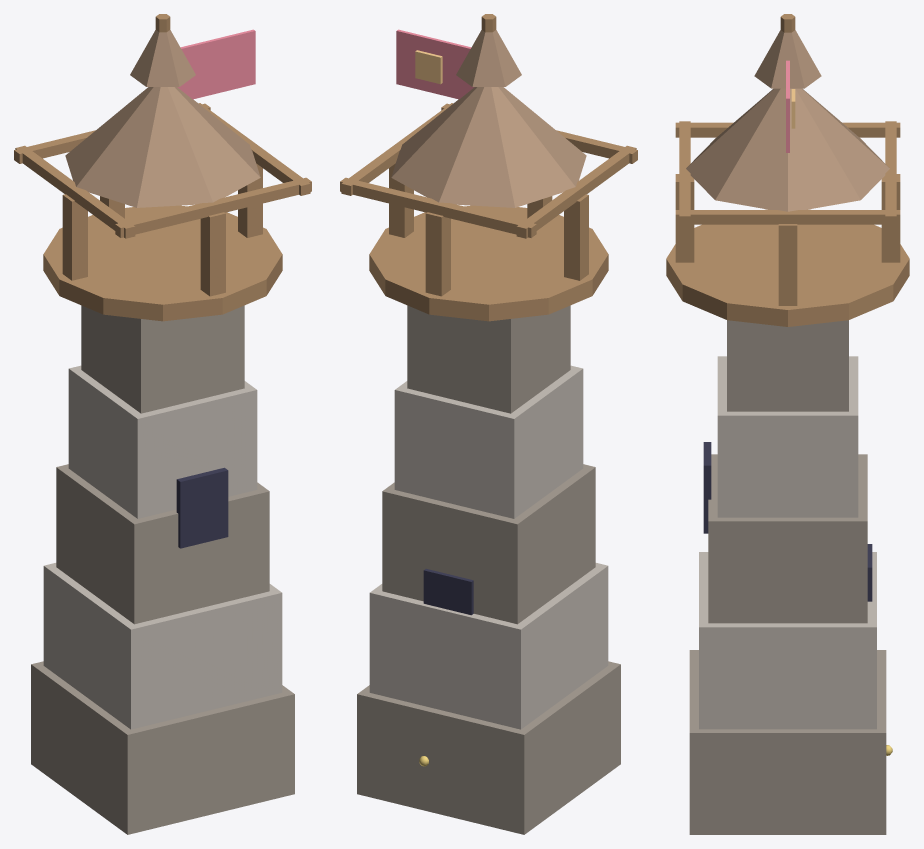
The model's file is watchtower.glb.
3 renders of one model, left to right at view 1: azimuth 30°, elevation 25°; view 2: azimuth 150°, elevation 25°; view 3: azimuth 270°, elevation 25°, orthographic.
Parts seen in each view (by area): view 1: watchtower_root; view 2: watchtower_root; view 3: watchtower_root.
Part boxes in pixels (bbox=[...]): watchtower_root: bbox=[14, 14, 311, 834]; watchtower_root: bbox=[340, 14, 637, 834]; watchtower_root: bbox=[666, 14, 909, 834].
Bounding box in the file's own units: 1.7 × 6 × 1.7.
